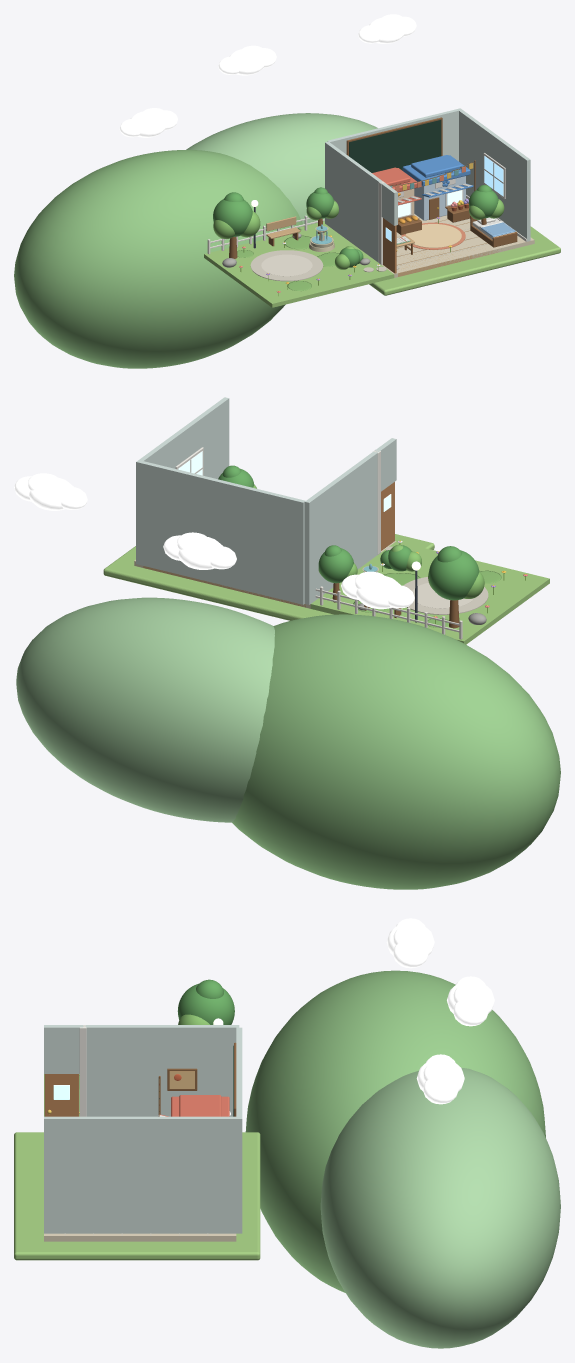
The model's file is room.glb.
3 renders of one model, top to bottom at view 1: azimuth 30°, elevation 25°; view 2: azimuth 150°, elevation 25°; view 3: azimuth 270°, elevation 25°, orthographic. The views are drawn at different scales.
Visible parts, largest first — view 1: hill0, hill1, plaza, wall_right, wall_left, board_slate, yard, town_ground, wall_back, rug, plaza_circle, tree_top0 (+14 smaller); view 2: hill0, hill1, wall_back, wall_left, plaza, yard, wall_right, tree_top0, cloud0_0, tree_small_top0, cloud2_0, cloud1_0 (+4 smaller); view 3: hill1, hill0, wall_right, wall_left, yard, door_top, town_ground, tree_top0, door_panel, shop_a_roof2, cloud1_2, cloud2_2 (+6 smaller).
Boxes of the visible parts, x1,y1,x2,y2 form: hill0: (14, 150, 303, 368); hill1: (186, 113, 377, 225); plaza: (204, 224, 394, 307); wall_right: (457, 108, 530, 241); wall_left: (325, 141, 382, 262); board_slate: (349, 120, 441, 172); yard: (298, 221, 560, 295); town_ground: (382, 198, 534, 277); wall_back: (327, 109, 458, 161); rug: (405, 224, 461, 247); plaza_circle: (250, 250, 323, 281); tree_top0: (213, 199, 252, 236); hill0: (232, 614, 560, 889); hill1: (16, 597, 274, 822); wall_back: (140, 461, 305, 604); wall_left: (304, 451, 378, 604); plaza: (310, 541, 549, 644); yard: (103, 534, 434, 620); wall_right: (136, 397, 229, 564); tree_top0: (428, 550, 479, 600); cloud0_0: (356, 576, 400, 609); tree_small_top0: (318, 548, 353, 583); cloud2_0: (29, 477, 73, 510); cloud1_0: (178, 537, 222, 569); hill1: (320, 1067, 560, 1348); hill0: (245, 970, 545, 1292); wall_right: (44, 1116, 242, 1233); wall_left: (83, 1025, 239, 1116); yard: (14, 1132, 260, 1260); door_top: (44, 1025, 82, 1073); town_ground: (44, 1233, 236, 1241); tree_top0: (177, 983, 234, 1024); door_panel: (44, 1074, 78, 1116); shop_a_roof2: (179, 1095, 221, 1116); cloud1_2: (453, 1000, 488, 1026); cloud2_2: (422, 1078, 458, 1104).
Size of the model in its own units: 22.07 by 13.9 by 18.2.
